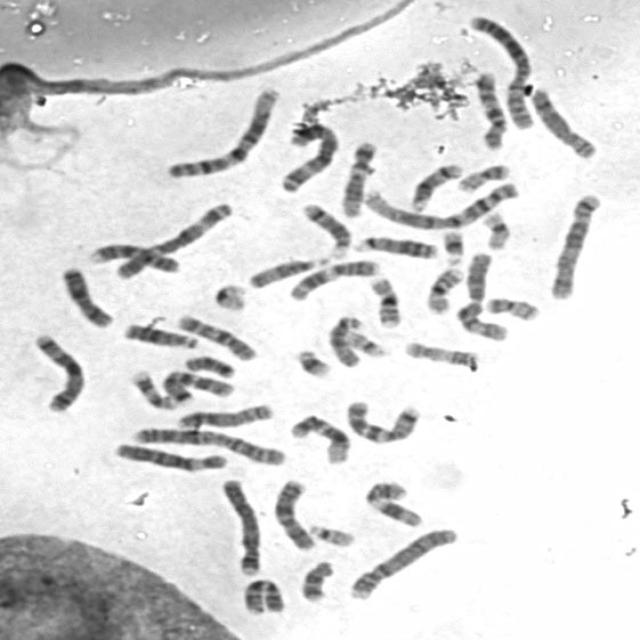A1: (160, 82, 283, 180), (358, 176, 523, 231)
A2: (463, 10, 539, 130), (125, 422, 288, 466)
A3: (108, 197, 236, 280), (274, 118, 343, 194)
B4: (343, 522, 462, 602), (214, 473, 264, 577)
B5: (545, 188, 605, 301), (26, 329, 87, 414)
C10: (171, 310, 260, 362), (471, 67, 511, 152)
C11: (284, 255, 382, 302), (359, 476, 427, 528)
C12: (285, 409, 353, 465), (336, 136, 380, 219)
C6: (455, 248, 511, 342), (111, 438, 229, 473)
C7: (341, 395, 423, 445), (159, 366, 237, 405)
C8: (526, 82, 601, 160), (172, 399, 276, 430)
C9: (82, 238, 185, 274), (238, 574, 286, 616)
D13: (349, 230, 442, 261), (119, 318, 200, 350)
D14: (297, 198, 353, 259), (404, 158, 464, 212)
D15: (242, 251, 332, 290), (323, 311, 366, 369)
E16: (421, 262, 467, 315), (364, 272, 405, 329)
E17: (398, 336, 482, 370), (126, 365, 179, 411)
E18: (296, 556, 338, 603), (179, 350, 239, 380)
F19: (478, 206, 515, 251), (208, 278, 250, 312)
F20: (452, 159, 513, 193), (480, 292, 542, 322)
G21: (291, 344, 334, 379), (436, 226, 468, 266)
G22: (304, 519, 358, 548), (341, 327, 390, 358)
X: (55, 262, 116, 329), (270, 474, 320, 552)
